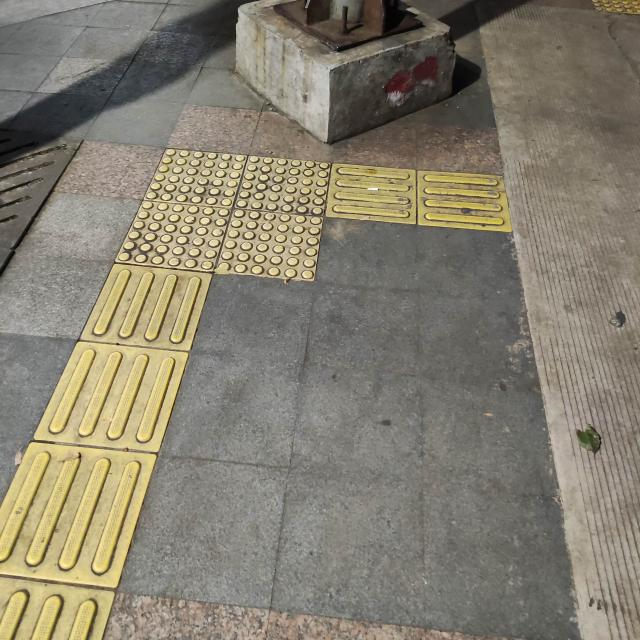kanan: (98, 117, 459, 356)
